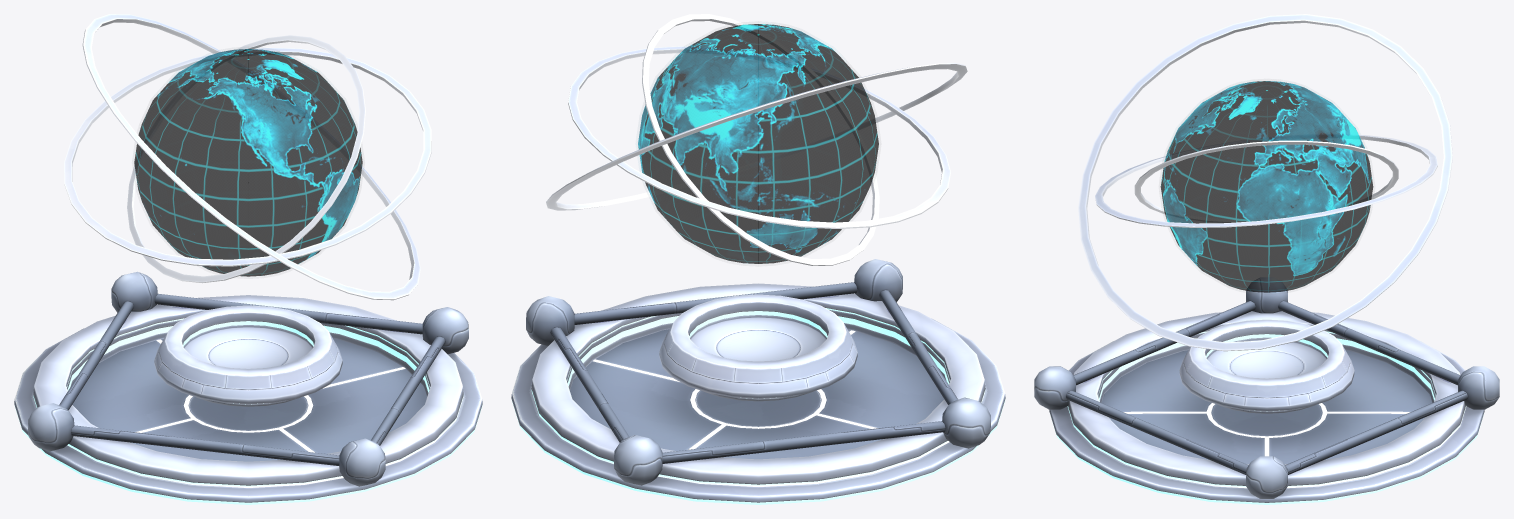
The model's file is obj_globe01.gltf.
The picture shows the model from 3 angles, left to right: view 1: azimuth 30°, elevation 25°; view 2: azimuth 150°, elevation 25°; view 3: azimuth 270°, elevation 25°; orthographic projection. The views are drawn at different scales.
Visible parts, largest first — view 1: obj_globe01; view 2: obj_globe01; view 3: obj_globe01.
Boxes of the visible parts, bbox=[...] form: obj_globe01: bbox=[14, 14, 482, 504]; obj_globe01: bbox=[511, 14, 1005, 504]; obj_globe01: bbox=[1034, 14, 1499, 504].
Size of what is drawn, in the model's own units: 5.93 by 4.75 by 5.93.
5 materials, 4 textured.
